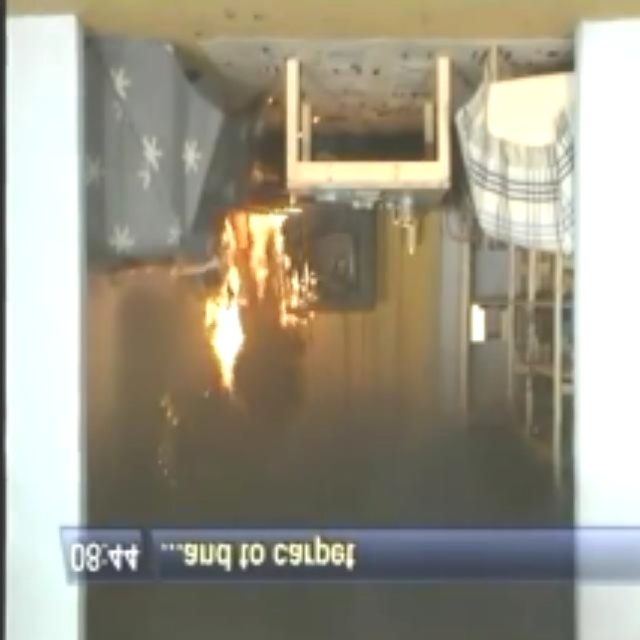fire: (187, 296, 276, 414)
